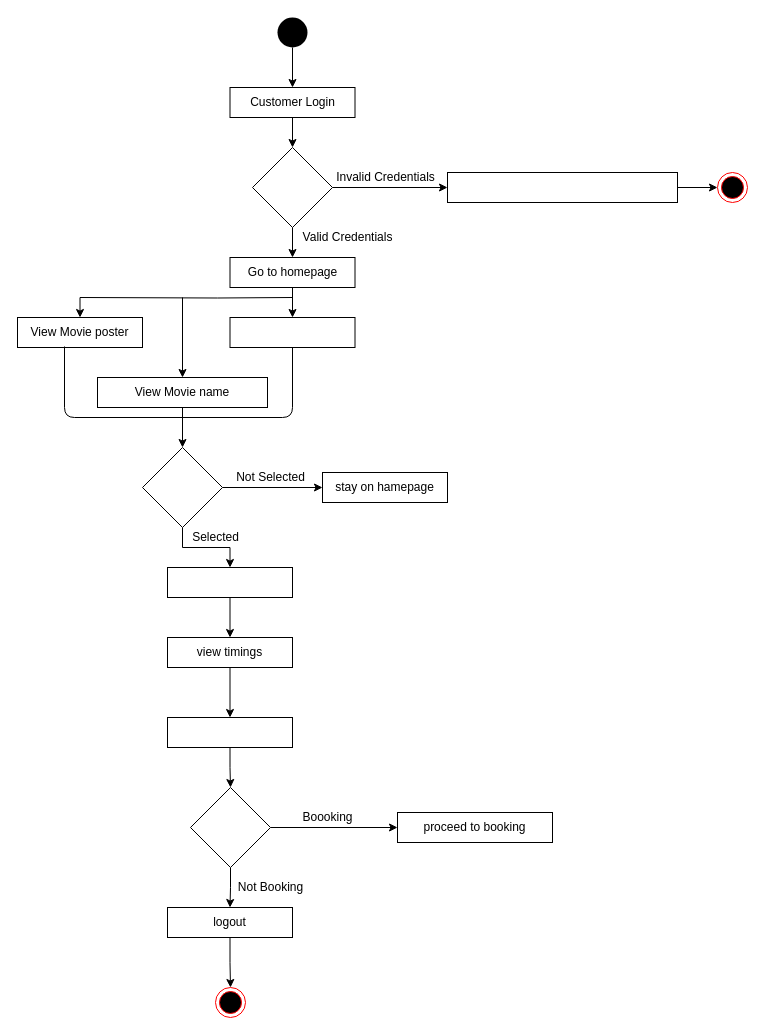
Some shapes in this 765 by 1035 pixel diagram are drawn without their labels. The box of each missing label's shape, as (x1, y1, x2, y2) in pixels:
display Invalid Credentials: (446, 172, 678, 202)
View Movie ratings: (229, 316, 355, 348)
view seats available: (166, 716, 292, 748)
view venues: (166, 566, 292, 598)
